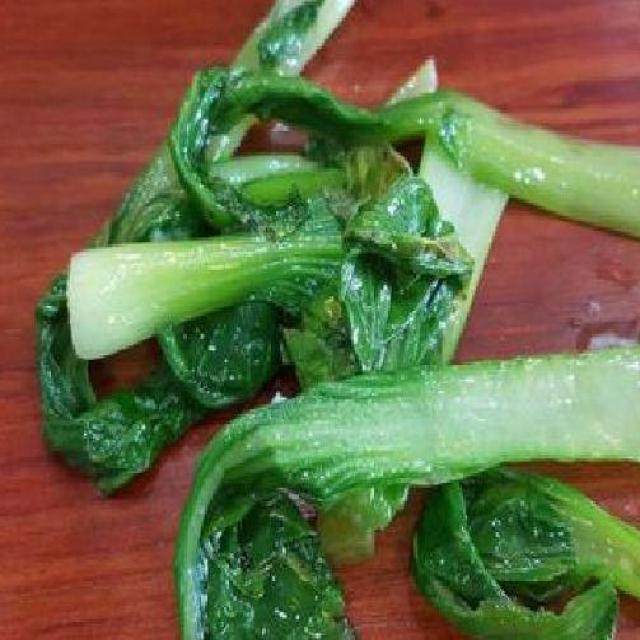-Kitchen waste - vegetable roots and leaves-: (36, 0, 636, 489), (177, 360, 640, 639), (170, 59, 640, 237), (63, 178, 451, 372), (409, 456, 640, 640)
